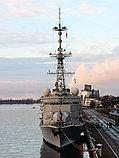MIL_Ship: (38, 47, 85, 149)
